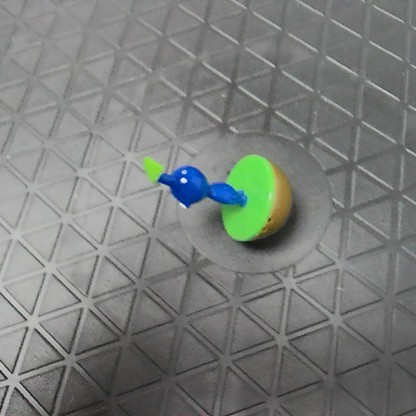leafairy: (134, 148, 295, 243)
